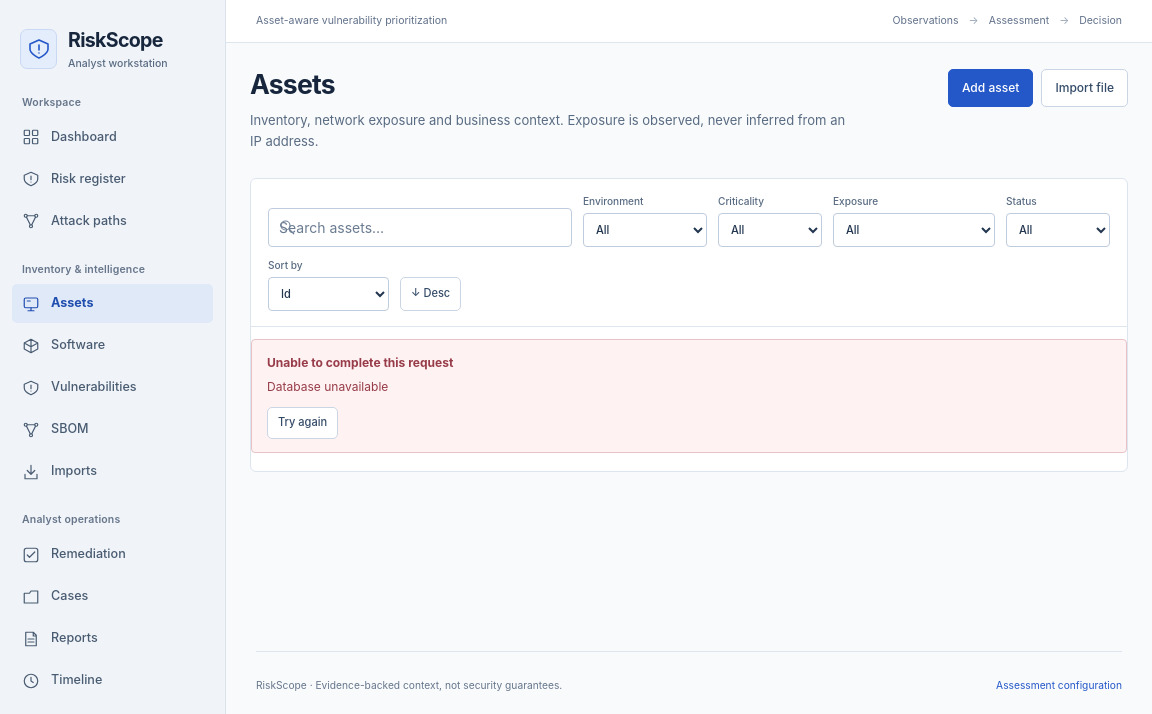
workstation route coverage › shows server failure and offers a working retry
The width and height of the screenshot is (1152, 714).
Check: the message shows "Database unavailable", box [267,379,388,394]
Click the button "Try again": x=303, y=423 [267,407,338,439]
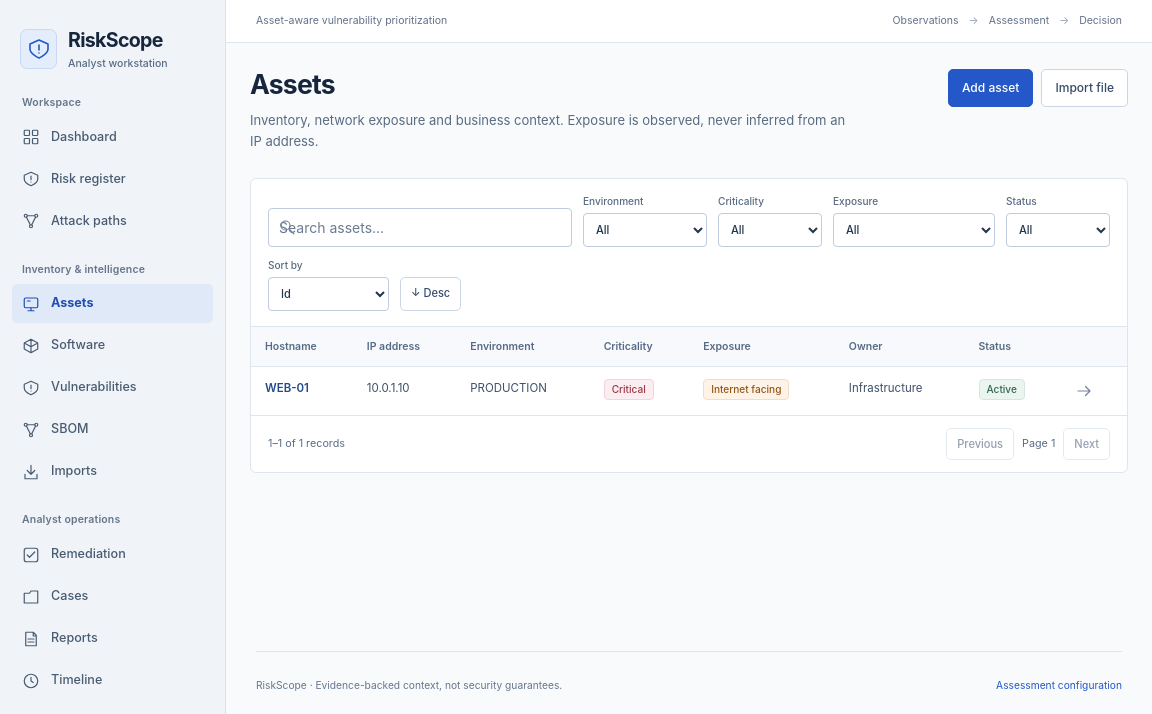
Check: the link "WEB-01" is shown, box [265,382,309,396]
